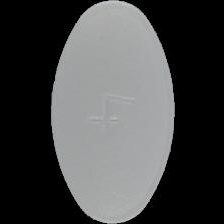63187-236: (0, 0, 224, 224)
